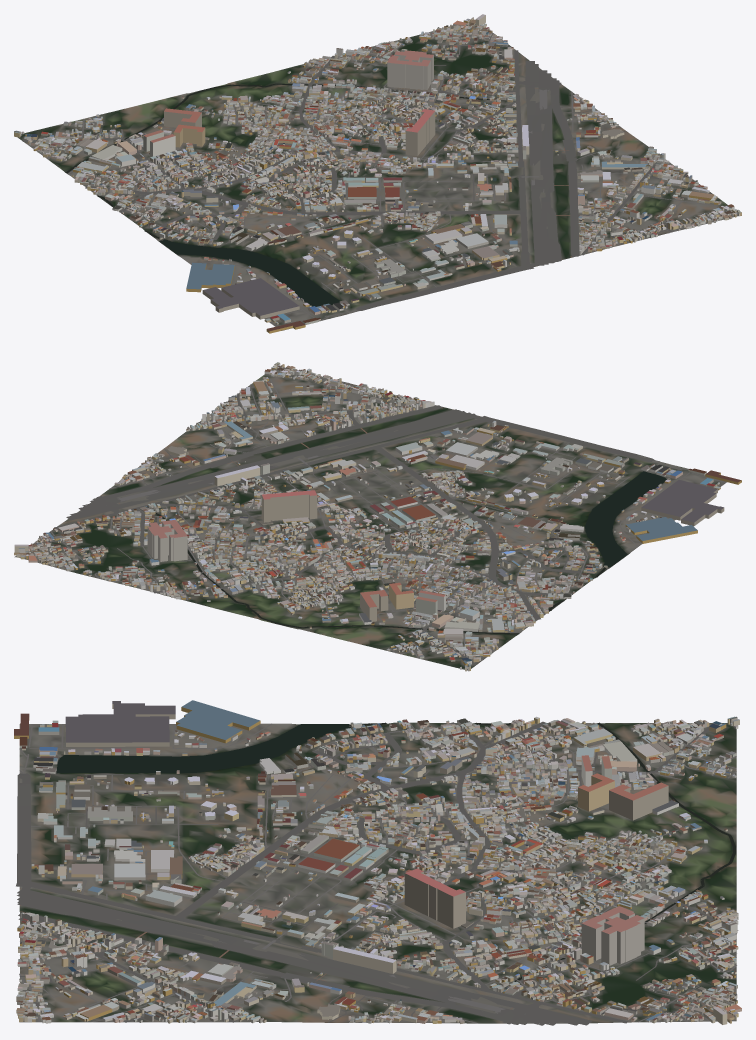
3 views of the same model, one above another, from view 1: azimuth 30°, elevation 25°; view 2: azimuth 150°, elevation 25°; view 3: azimuth 270°, elevation 25° (orthographic). The views are drawn at different scales.
Visible parts, largest first — view 1: buildings, ground, roads, water; view 2: buildings, ground, roads, water; view 3: buildings, ground, roads, water.
Boxes of the visible parts, box(x1,y1,x2,y2) form: buildings: box(14, 14, 741, 333); ground: box(17, 24, 737, 330); roads: box(22, 29, 723, 326); water: box(65, 83, 506, 306); buildings: box(14, 362, 741, 671); ground: box(14, 367, 726, 670); roads: box(33, 372, 725, 665); water: box(155, 471, 666, 634); buildings: box(14, 700, 741, 1024); ground: box(19, 722, 736, 1023); roads: box(16, 721, 738, 1025); water: box(56, 722, 735, 981).
Bounding box in the file's own units: 1508 × 77.7 × 1422.
